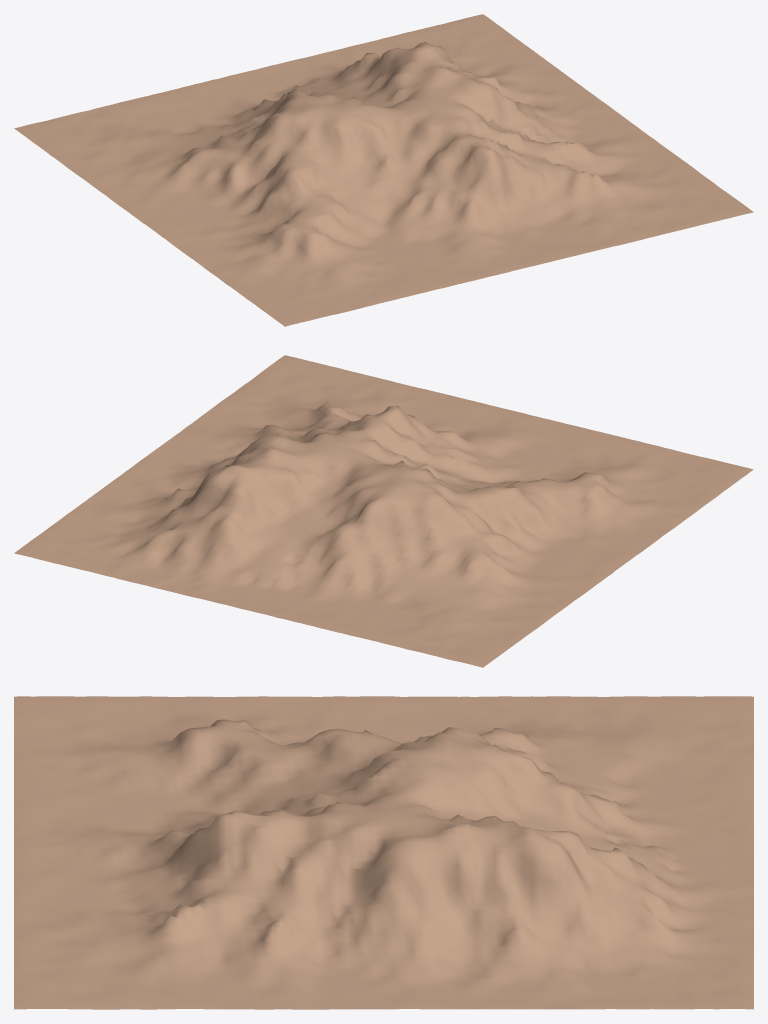
3 renders of one model, top to bottom at view 1: azimuth 30°, elevation 25°; view 2: azimuth 150°, elevation 25°; view 3: azimuth 270°, elevation 25°, orthographic. The views are drawn at different scales.
Visible parts, largest first — view 1: DM_lod_2; view 2: DM_lod_2; view 3: DM_lod_2.
Part boxes in pixels (left/top/right/bottom): DM_lod_2: left=14, top=14, right=753, bottom=326; DM_lod_2: left=14, top=355, right=753, bottom=667; DM_lod_2: left=14, top=696, right=753, bottom=1009.
Size of the model in its own units: 300 by 38.05 by 300.
